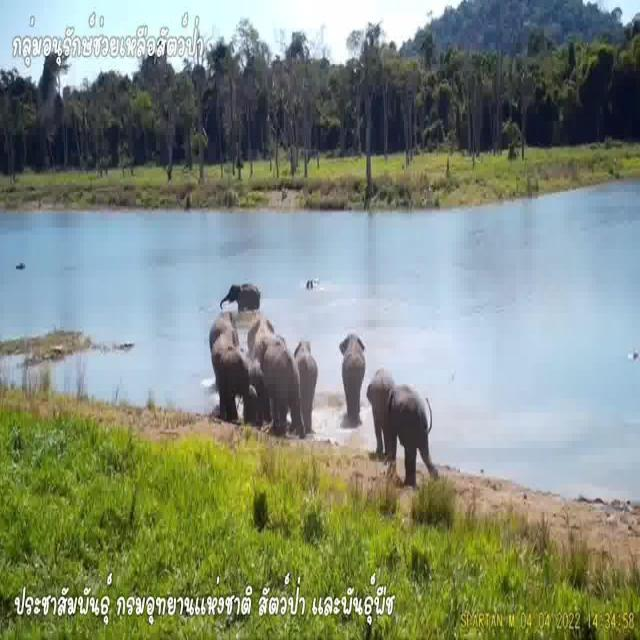Elephant: (392, 382, 439, 466), (261, 338, 301, 426), (206, 335, 252, 394), (369, 362, 395, 447), (340, 328, 364, 406), (296, 335, 318, 405), (218, 274, 261, 309), (252, 311, 276, 366), (212, 308, 235, 358)
